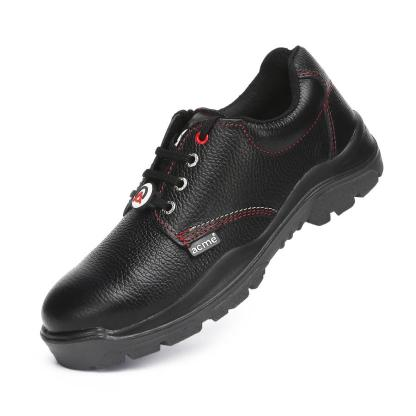bota: (37, 39, 387, 375)
